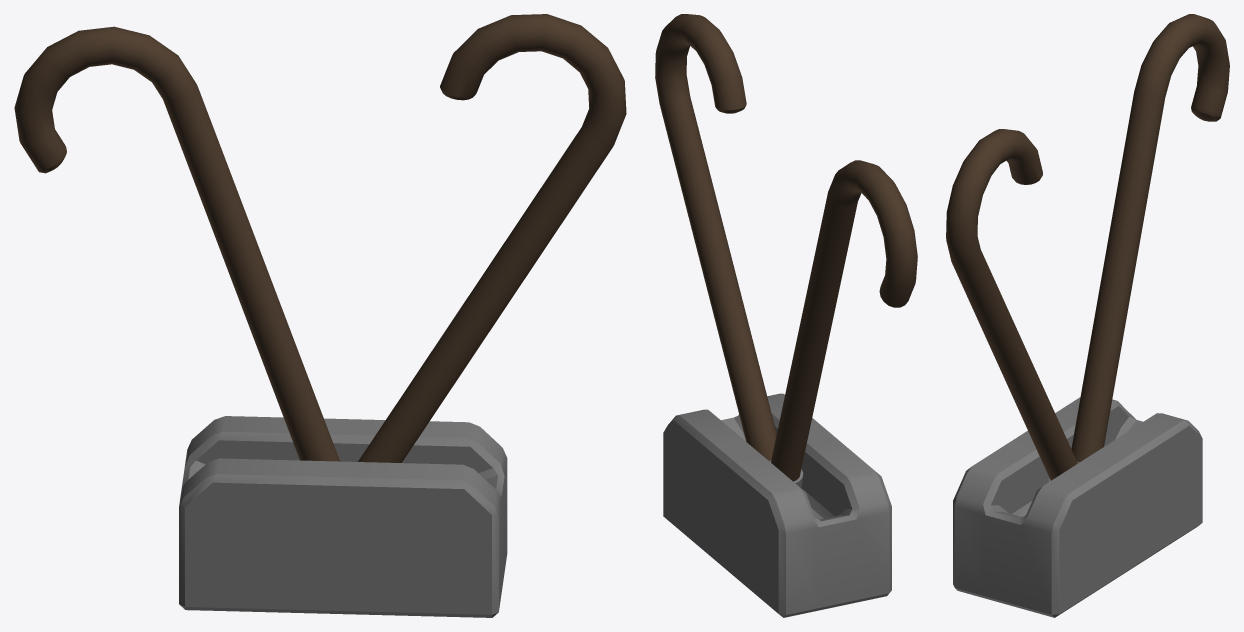
Rendered from lever.glb.
3 renders of one model, left to right at view 1: azimuth 30°, elevation 25°; view 2: azimuth 150°, elevation 25°; view 3: azimuth 270°, elevation 25°, orthographic. The views are drawn at different scales.
Parts seen in each view (by area): view 1: lever empty, lever off, lever on; view 2: lever on, lever off, lever empty; view 3: lever off, lever empty, lever on.
Boxes of the visible parts, x1=… form: lever empty: x1=179, y1=416, x2=507, y2=617; lever off: x1=14, y1=26, x2=506, y2=617; lever on: x1=358, y1=14, x2=626, y2=605; lever on: x1=655, y1=14, x2=891, y2=602; lever off: x1=712, y1=160, x2=917, y2=617; lever empty: x1=663, y1=393, x2=891, y2=615; lever off: x1=954, y1=14, x2=1229, y2=617; lever empty: x1=953, y1=397, x2=1202, y2=617; lever on: x1=946, y1=129, x2=1077, y2=481.
Size of the model in its own units: 0.8149 by 0.9727 by 0.5193.
